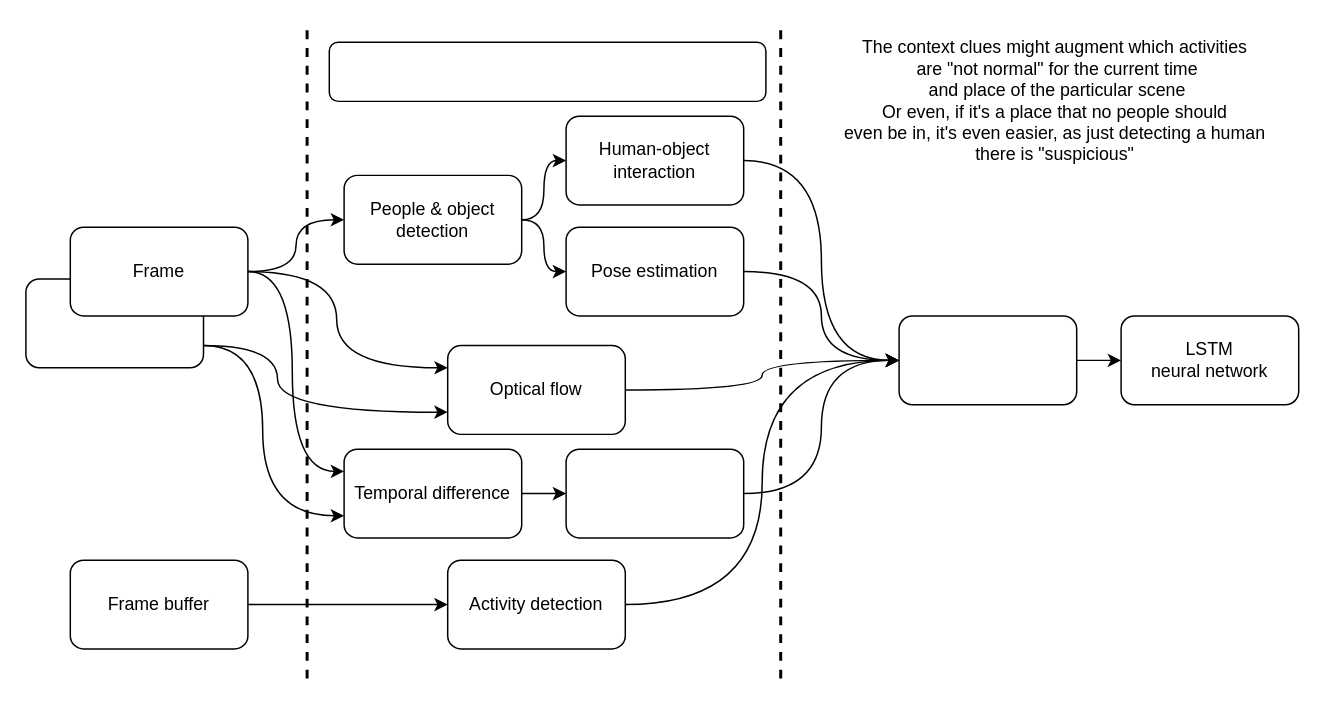
This 1325x706 diagram has some shape labels left out. Each missing label, with the centre of its shape:
Context clues: the point at 547,71
Feature vector padding and normalization: the point at 987,359
Histogram of oriented gradients: the point at 654,493
Previous frame: the point at 114,323
